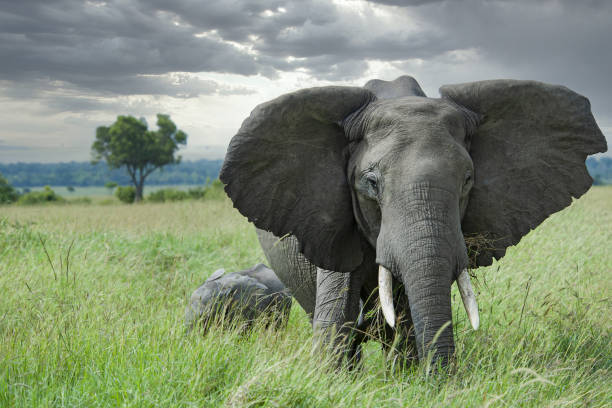africanelephant: (327, 92, 489, 330)
